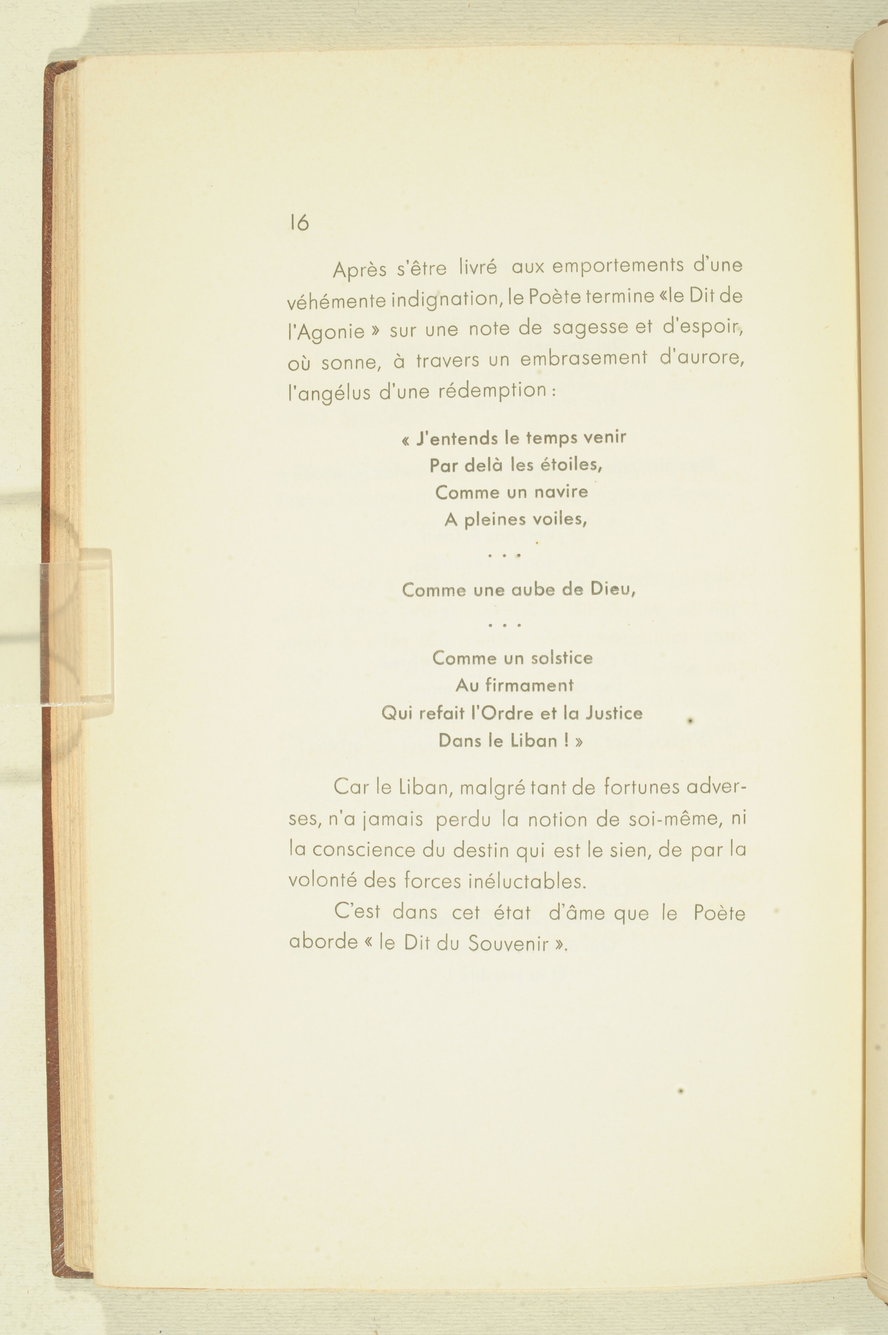InterligneAsterisque: (475, 545, 544, 563), (488, 613, 537, 638)
LigneDeProse: (268, 768, 762, 962), (276, 252, 777, 414)
N°Page: (282, 204, 323, 239)
Vers: (376, 699, 650, 725), (400, 571, 642, 600), (394, 427, 645, 450), (418, 454, 621, 479), (417, 643, 615, 668), (441, 507, 607, 531), (428, 482, 615, 503), (435, 729, 588, 752), (455, 672, 581, 694)
